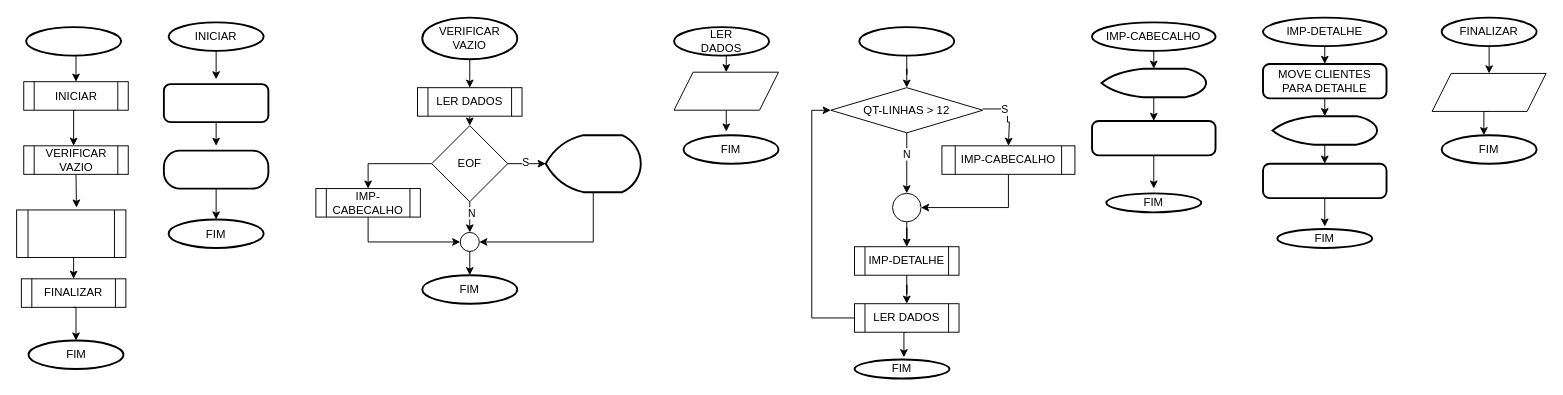
Some shapes in this 1563 by 395 pixel diagram are drawn without their labels. Here are the shapes that lost their labels. From the top down, the centre of each, then its label:
point 73,41: INICIO
point 906,41: PROCESSAR
point 726,90: LER CLIENTES
point 1153,82: CABECALHO
point 1488,91: FECHAR CLIENTES
point 215,103: ABRIR CLIENTES
point 1153,138: MOVE 4 TO QT-LINHAS
point 1324,130: DETALHE
point 215,169: QT-LINHAS = 0
point 592,163: ARQUIVO CLIENTES VAZIO
point 1324,180: QT-LINHAS + 1
point 71,233: PROCESSAR até EOF de CLIENTES
